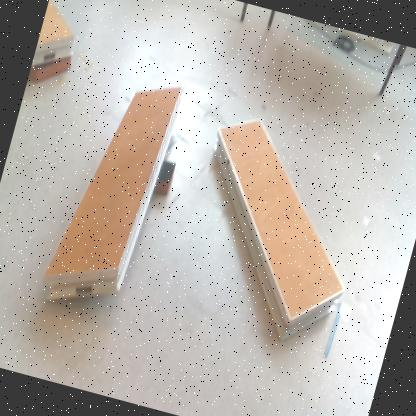Stairs: (44, 86, 185, 307), (214, 119, 344, 342), (32, 1, 76, 68)
